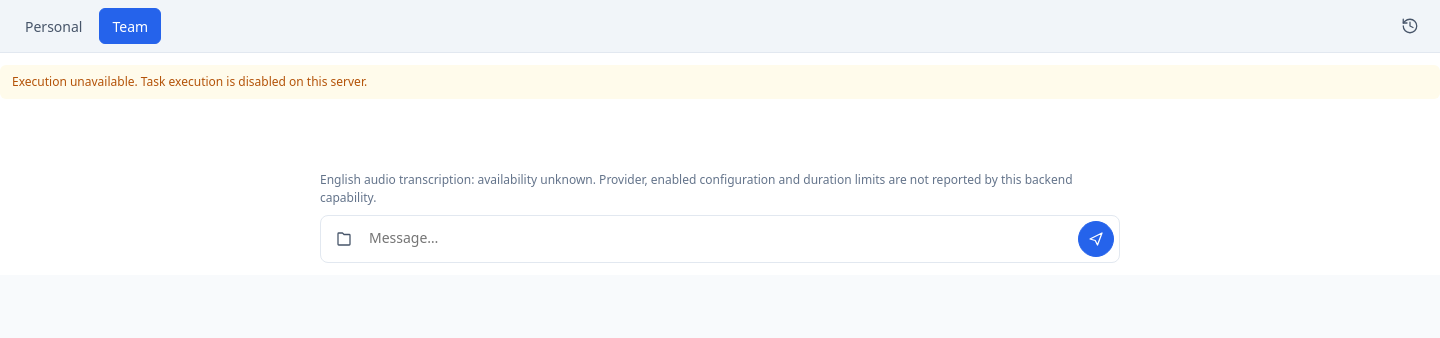
Test case: LG-249 configured Team mention hint › does not invent a mention when the backend omits it
Type "plain team note" into the text box named "Message for Global".
click(720, 239); type("plain team note")  # box [320,215,1120,263]
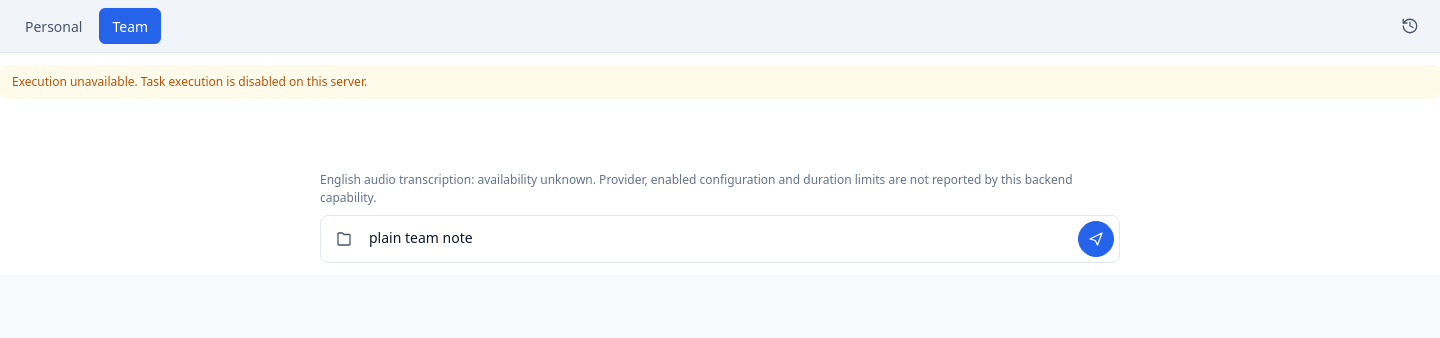
Press Enter in the text box named "Message for Global", box [320,215,1120,263]
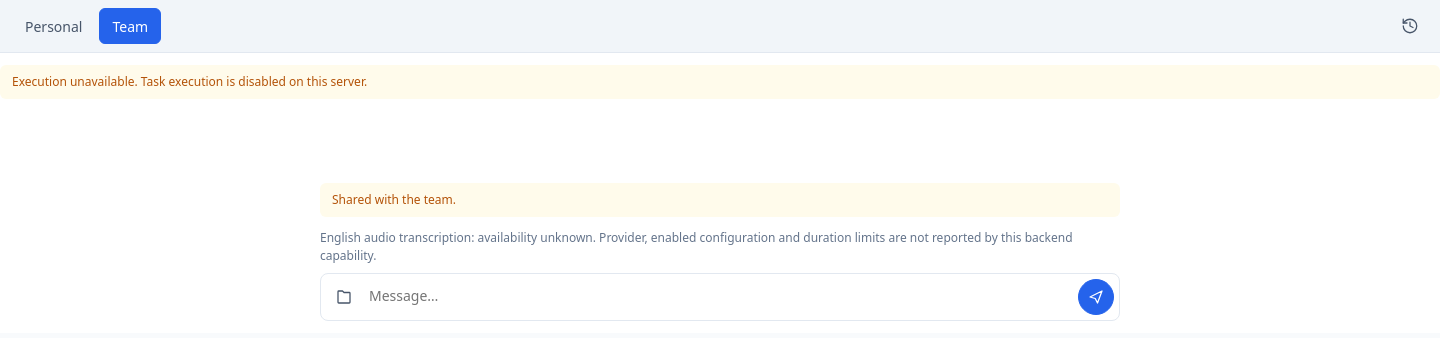
Check: the text "Shared with the team." is shown, box [320,183,1120,217]
